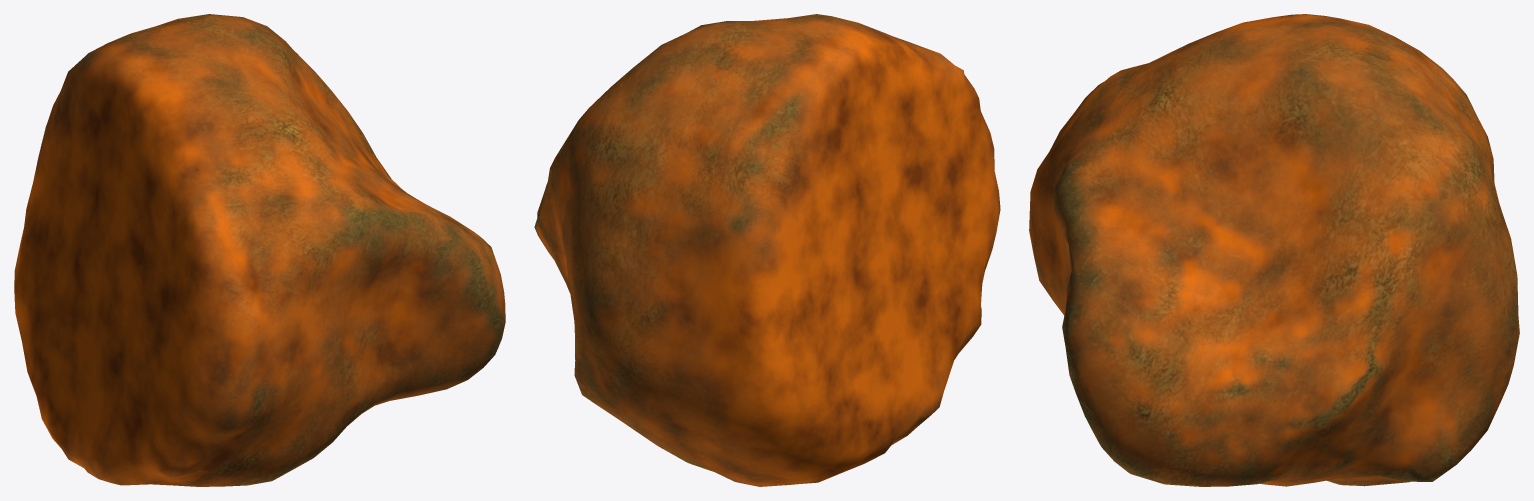
File: mosquito.glb
3 renders of one model, left to right at view 1: azimuth 30°, elevation 25°; view 2: azimuth 150°, elevation 25°; view 3: azimuth 270°, elevation 25°, orthographic. The views are drawn at different scales.
Visible parts, largest first — view 1: 5_amber_lr; view 2: 5_amber_lr; view 3: 5_amber_lr.
Boxes of the visible parts, x1,y1,x2,y2 form: 5_amber_lr: [14, 14, 505, 486]; 5_amber_lr: [534, 14, 1000, 486]; 5_amber_lr: [1029, 14, 1519, 486].
Bounding box in the file's own units: 87.92 × 99.67 × 97.25.
3 materials, 2 textured.
